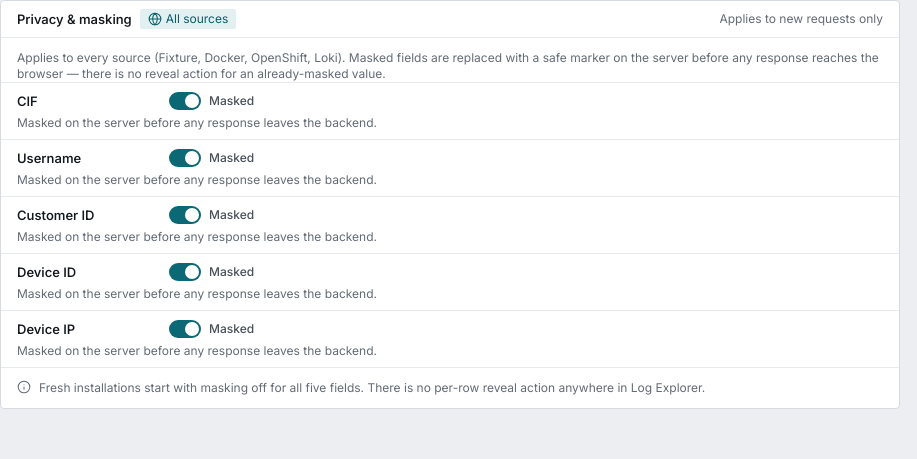
Test: PrivacyMaskingSettingsPanel › shows a warning once any field is unmasked, and it disappears again once re-masked
The width and height of the screenshot is (917, 459).
Check: the text "some fields are unmasked" is not shown
Click the switch labelled "Masked" next to "Device IP" at (217, 329), box x1=169 y1=320 x2=265 y2=338
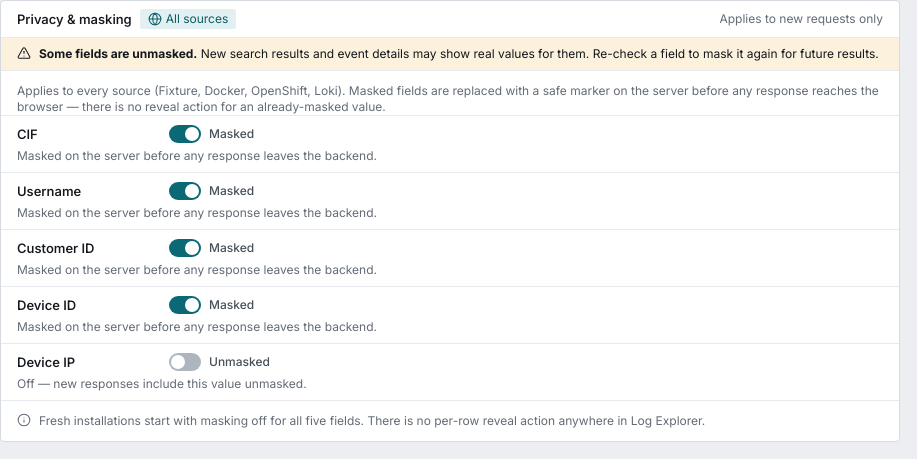
Check: the text "Some fields are unmasked." is shown, box x1=39 y1=46 x2=197 y2=61
Click the switch labelled "Unmasked" at (220, 362), box x1=169 y1=353 x2=270 y2=371
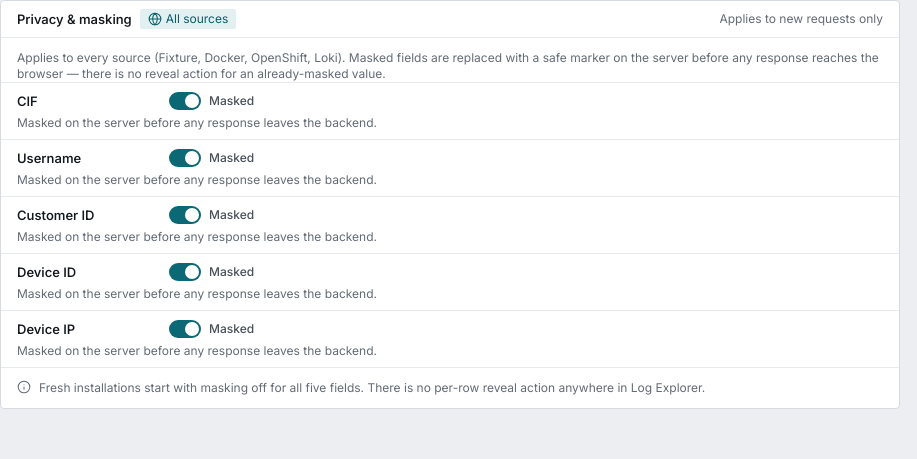
Check: the text "Some fields are unmasked" is gone
